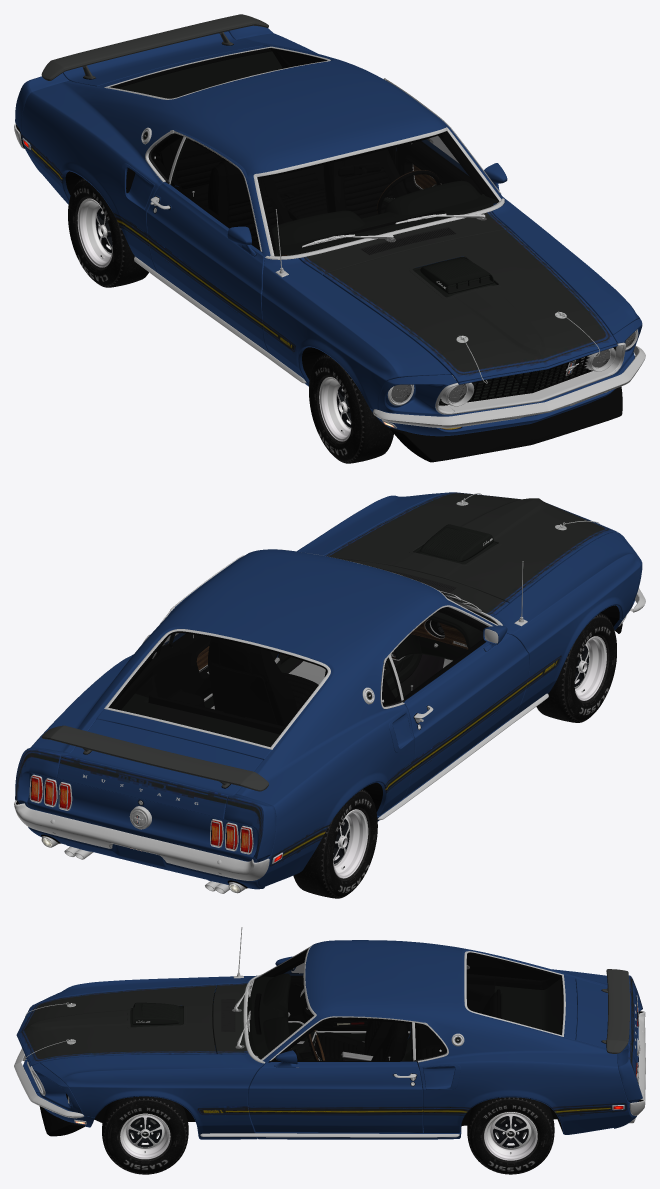
3 renders of one model, top to bottom at view 1: azimuth 30°, elevation 25°; view 2: azimuth 150°, elevation 25°; view 3: azimuth 270°, elevation 25°, orthographic. The views are drawn at different scales.
Visible parts, largest first — view 1: Mustang:SM_Fender_B_101_SM_Fender_B_101_MI_Exhaust_013_Musta, Mustang:SK_Hood_101_SK_Hood_101_MI_1210060001_005_Mustang:MI, Mustang:SM_Body_101_SM_Body_101_MI_Mirror_Mustang:MI_Glass1_, Mustang:SM_Body_101_SM_Body_101_MI_Mirror_Mustang:MI_Cabin_L (×2), Mustang:SM_Fender_F_101_SM_Fender_F_101_MI_Exhaust_012_Musta, Mustang:SM_Bumper_F_101_SM_Bumper_F_101_MI_1210060001_007_Mu, Mustang:SK_Door_FR_101_SK_Door_FR_101_MI_Cabin_A_004_Mustang, Mustang:Ani_Wheel_FR60, Mustang:Ani_Wheel_BR65, Mustang:SM_Fender_B_101_SM_Fender_B_101_MI_Exhaust_010_Musta, Mustang:SM_Bumper_F_101_SM_Bumper_F_101_MI_1210060001_006_Mu, Mustang:SK_Door_FR_101_SK_Door_FR_101_MI_Cabin_A_010_Mustang (+13 smaller); view 2: Mustang:SM_Fender_B_101_SM_Fender_B_101_MI_Exhaust_013_Musta, Mustang:SM_Body_101_SM_Body_101_MI_Mirror_Mustang:MI_Glass1_, Mustang:SK_Hood_101_SK_Hood_101_MI_1210060001_005_Mustang:MI, Mustang:SM_Fender_F_101_SM_Fender_F_101_MI_Exhaust_012_Musta, Mustang:SM_Body_101_SM_Body_101_MI_Mirror_Mustang:MI_Cabin_L, Mustang:SM_Bumper_B_101_SM_Bumper_B_101_MI_1210060001_005_Mu, Mustang:SK_Door_FR_101_SK_Door_FR_101_MI_Cabin_A_004_Mustang, Mustang:SK_Trunk_101_SK_Trunk_101_MI_1210060001_003_Mustang:, Mustang:SM_Bumper_B_101_SM_Bumper_B_101_MI_1210060001_006_Mu, Mustang:SM_Body_101_SM_Body_101_MI_Mirror_Mustang:MI_Cabin1_, Mustang:Ani_Wheel_BR65, Mustang:Ani_Wheel_FR60 (+10 smaller); view 3: Mustang:SM_Fender_B_101_SM_Fender_B_101_MI_Exhaust_013_Musta, Mustang:SM_Fender_F_101_SM_Fender_F_101_MI_Exhaust_012_Musta, Mustang:SM_Body_101_SM_Body_101_MI_Mirror_Mustang:MI_Cabin_L (×2), Mustang:SK_Door_FL_101_SK_Door_FL_101_MI_1210060001_Mustang:, Mustang:SK_Hood_101_SK_Hood_101_MI_1210060001_005_Mustang:MI, Mustang:SM_Body_101_SM_Body_101_MI_Mirror_Mustang:MI_Glass1_, Mustang:Ani_Wheel_FL62, Mustang:Ani_Wheel_BL75, Mustang:Ani_Carwindow_FL_74, Mustang:SK_Trunk_101_SK_Trunk_101_MI_1210060001_003_Mustang:, Mustang:SM_Fender_B_101_SM_Fender_B_101_MI_Exhaust_010_Musta, Mustang:SM_SideSkirts_101_SM_SideSkirts_101_MI_1210060001_01 (×2) (+11 smaller).
Part boxes in pixels (x1,y1,x2,y2): Mustang:SM_Fender_B_101_SM_Fender_B_101_MI_Exhaust_013_Musta: (21, 33, 502, 270); Mustang:SK_Hood_101_SK_Hood_101_MI_1210060001_005_Mustang:MI: (322, 229, 617, 384); Mustang:SM_Body_101_SM_Body_101_MI_Mirror_Mustang:MI_Glass1_: (110, 48, 498, 255); Mustang:SM_Body_101_SM_Body_101_MI_Mirror_Mustang:MI_Cabin_L (×2): (117, 51, 498, 256); Mustang:SM_Fender_F_101_SM_Fender_F_101_MI_Exhaust_012_Musta: (261, 199, 640, 409); Mustang:SM_Bumper_F_101_SM_Bumper_F_101_MI_1210060001_007_Mu: (373, 342, 645, 462); Mustang:SK_Door_FR_101_SK_Door_FR_101_MI_Cabin_A_004_Mustang: (147, 182, 268, 351); Mustang:Ani_Wheel_FR60: (309, 354, 393, 463); Mustang:Ani_Wheel_BR65: (68, 178, 148, 287); Mustang:SM_Fender_B_101_SM_Fender_B_101_MI_Exhaust_010_Musta: (22, 46, 504, 259); Mustang:SM_Bumper_F_101_SM_Bumper_F_101_MI_1210060001_006_Mu: (370, 319, 642, 436); Mustang:SK_Door_FR_101_SK_Door_FR_101_MI_Cabin_A_010_Mustang: (170, 138, 260, 250); Mustang:SM_Fender_B_101_SM_Fender_B_101_MI_Exhaust_013_Musta: (31, 549, 495, 887); Mustang:SM_Body_101_SM_Body_101_MI_Mirror_Mustang:MI_Glass1_: (108, 592, 498, 746); Mustang:SK_Hood_101_SK_Hood_101_MI_1210060001_005_Mustang:MI: (324, 492, 616, 603); Mustang:SM_Fender_F_101_SM_Fender_F_101_MI_Exhaust_012_Musta: (297, 492, 640, 718); Mustang:SM_Body_101_SM_Body_101_MI_Mirror_Mustang:MI_Cabin_L: (111, 608, 497, 746); Mustang:SM_Bumper_B_101_SM_Bumper_B_101_MI_1210060001_005_Mu: (15, 747, 276, 889); Mustang:SK_Door_FR_101_SK_Door_FR_101_MI_Cabin_A_004_Mustang: (403, 633, 529, 797); Mustang:SK_Trunk_101_SK_Trunk_101_MI_1210060001_003_Mustang:: (57, 719, 263, 818); Mustang:SM_Bumper_B_101_SM_Bumper_B_101_MI_1210060001_006_Mu: (14, 774, 269, 893); Mustang:SM_Body_101_SM_Body_101_MI_Mirror_Mustang:MI_Cabin1_: (108, 607, 486, 734); Mustang:Ani_Wheel_BR65: (293, 789, 377, 898); Mustang:Ani_Wheel_FR60: (536, 613, 616, 722); Mustang:SM_Fender_B_101_SM_Fender_B_101_MI_Exhaust_013_Musta: (263, 940, 632, 1134); Mustang:SM_Fender_F_101_SM_Fender_F_101_MI_Exhaust_012_Musta: (40, 975, 264, 1139); Mustang:SM_Body_101_SM_Body_101_MI_Mirror_Mustang:MI_Cabin_L (×2): (247, 949, 561, 1060); Mustang:SK_Door_FL_101_SK_Door_FL_101_MI_1210060001_Mustang:: (248, 1061, 423, 1132); Mustang:SK_Hood_101_SK_Hood_101_MI_1210060001_005_Mustang:MI: (16, 984, 216, 1066); Mustang:SM_Body_101_SM_Body_101_MI_Mirror_Mustang:MI_Glass1_: (247, 947, 563, 1059); Mustang:Ani_Wheel_FL62: (102, 1096, 188, 1174); Mustang:Ani_Wheel_BL75: (467, 1097, 554, 1174); Mustang:Ani_Carwindow_FL_74: (271, 1017, 412, 1061); Mustang:SK_Trunk_101_SK_Trunk_101_MI_1210060001_003_Mustang:: (575, 978, 637, 1062); Mustang:SM_Fender_B_101_SM_Fender_B_101_MI_Exhaust_010_Musta: (243, 943, 624, 1132); Mustang:SM_SideSkirts_101_SM_SideSkirts_101_MI_1210060001_01 (×2): (200, 1132, 461, 1139).
Bounding box in the file's own units: 0.0184 × 0.0133 × 0.0477.
22 materials, 19 textured.
